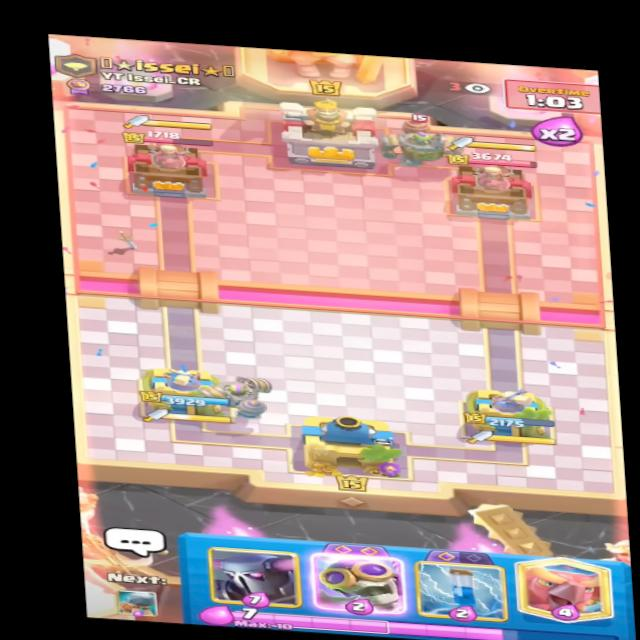goblin-machine: (372, 112, 478, 170)
